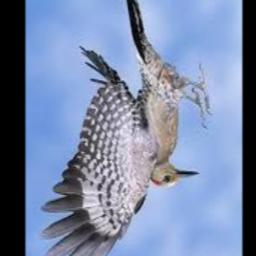Woodpecker: (41, 0, 212, 256)
